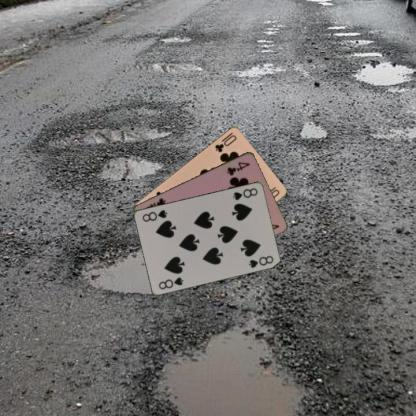10c: (212, 132, 238, 154)
4c: (224, 159, 252, 177)
8s: (230, 185, 259, 201), (156, 274, 185, 290)
